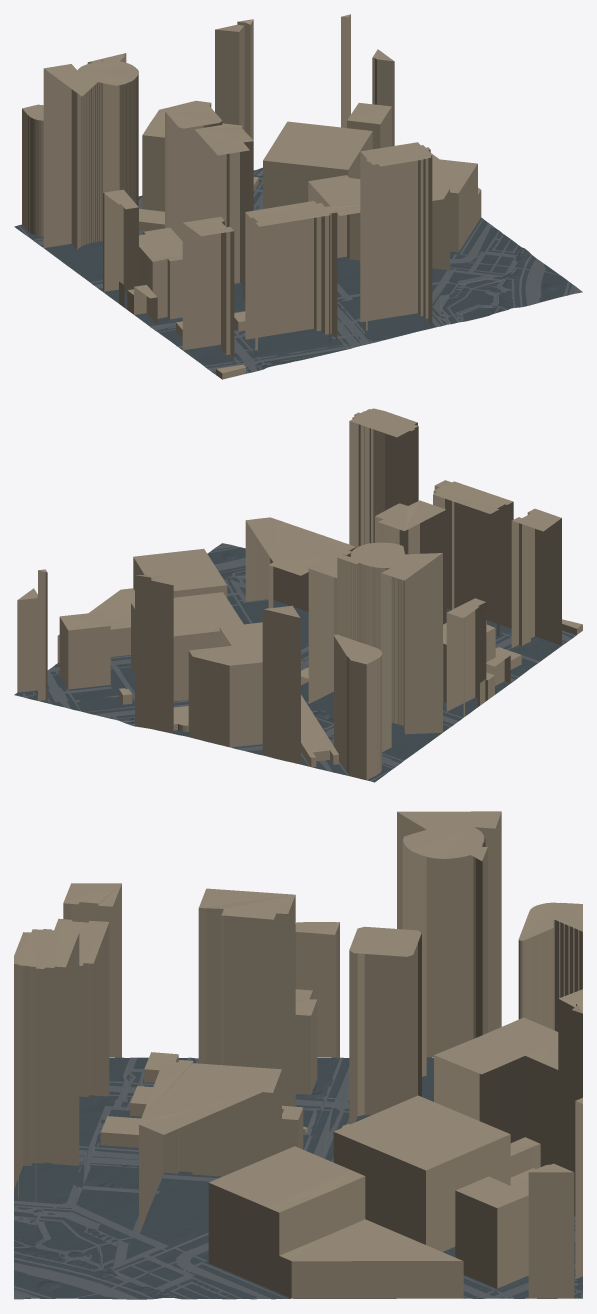
File: epsg26910-1440-10893.lod1-4m.glb
3 views of the same model, one above another, from view 1: azimuth 30°, elevation 25°; view 2: azimuth 150°, elevation 25°; view 3: azimuth 270°, elevation 25° (orthographic). The views are drawn at different scales.
Visible parts, largest first — view 1: epsg26910-1440-10893-lod1; view 2: epsg26910-1440-10893-lod1; view 3: epsg26910-1440-10893-lod1.
Boxes of the visible parts, box(x1,y1,x2,y2) form: epsg26910-1440-10893-lod1: box(14, 14, 582, 379); epsg26910-1440-10893-lod1: box(14, 408, 582, 782); epsg26910-1440-10893-lod1: box(14, 811, 582, 1299).
Size of the model in its own units: 384 by 188 by 384.
